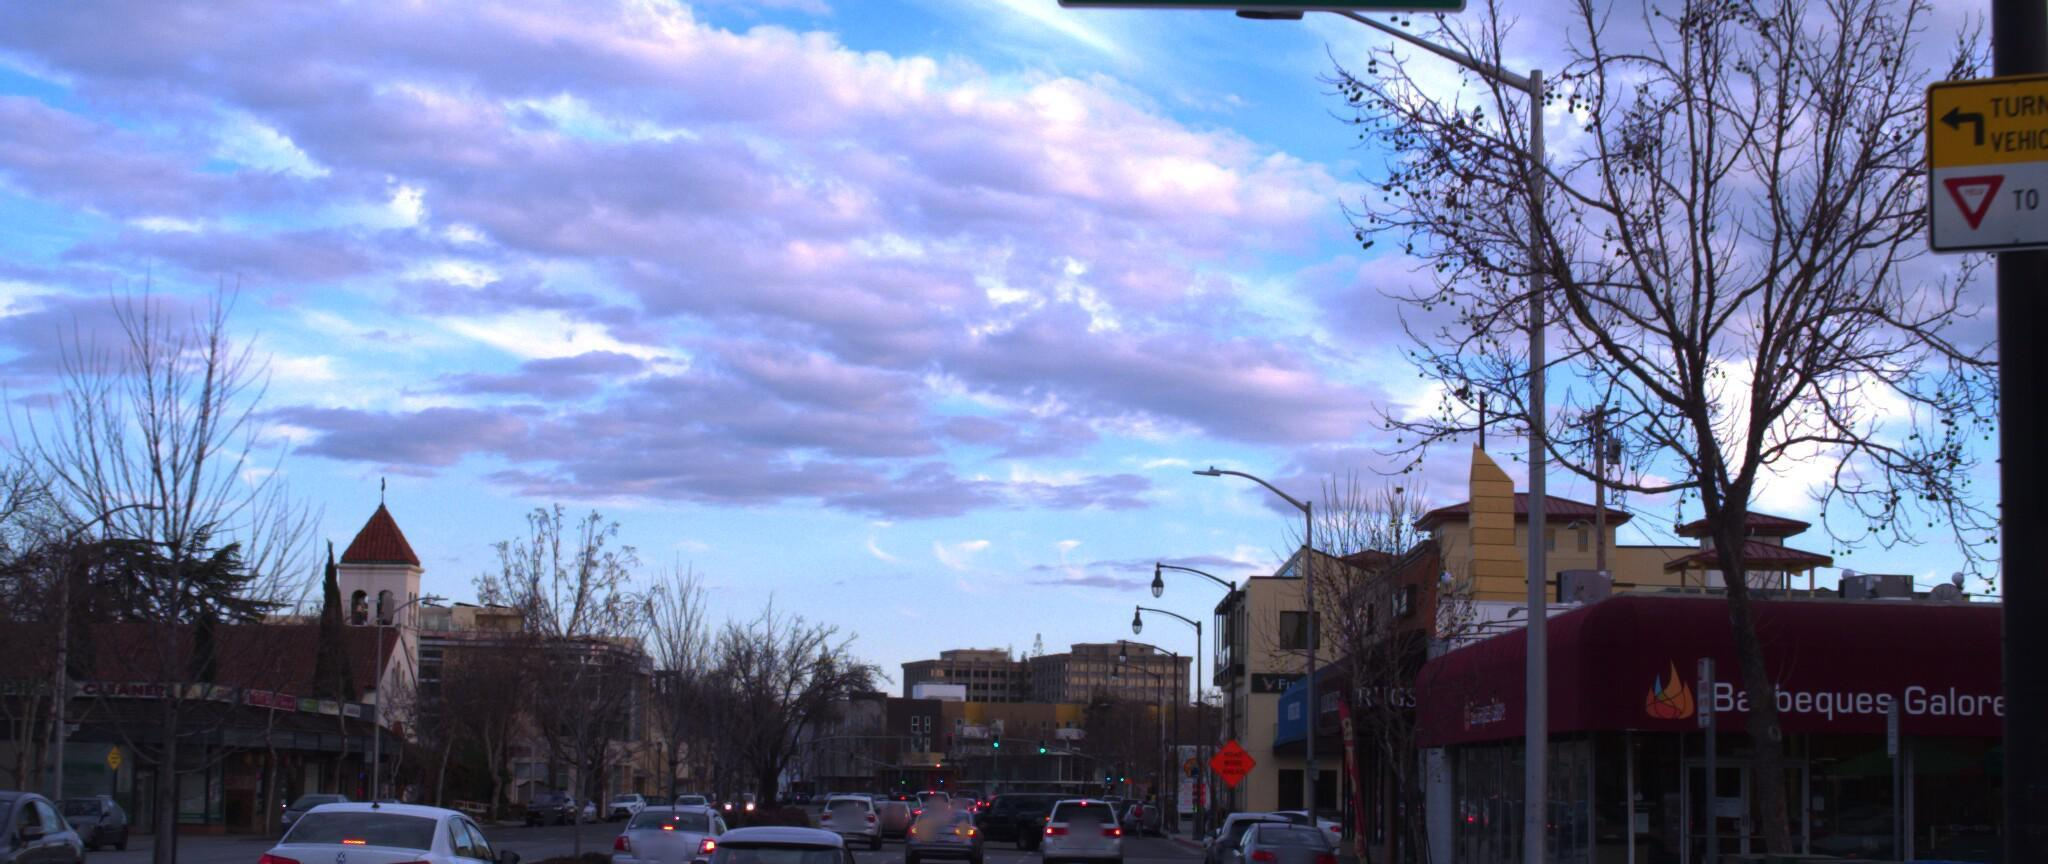car: (235, 804, 542, 864), (677, 797, 895, 864), (0, 760, 118, 864), (600, 784, 748, 864), (1213, 797, 1341, 864), (903, 777, 1000, 852), (1045, 780, 1135, 857)
